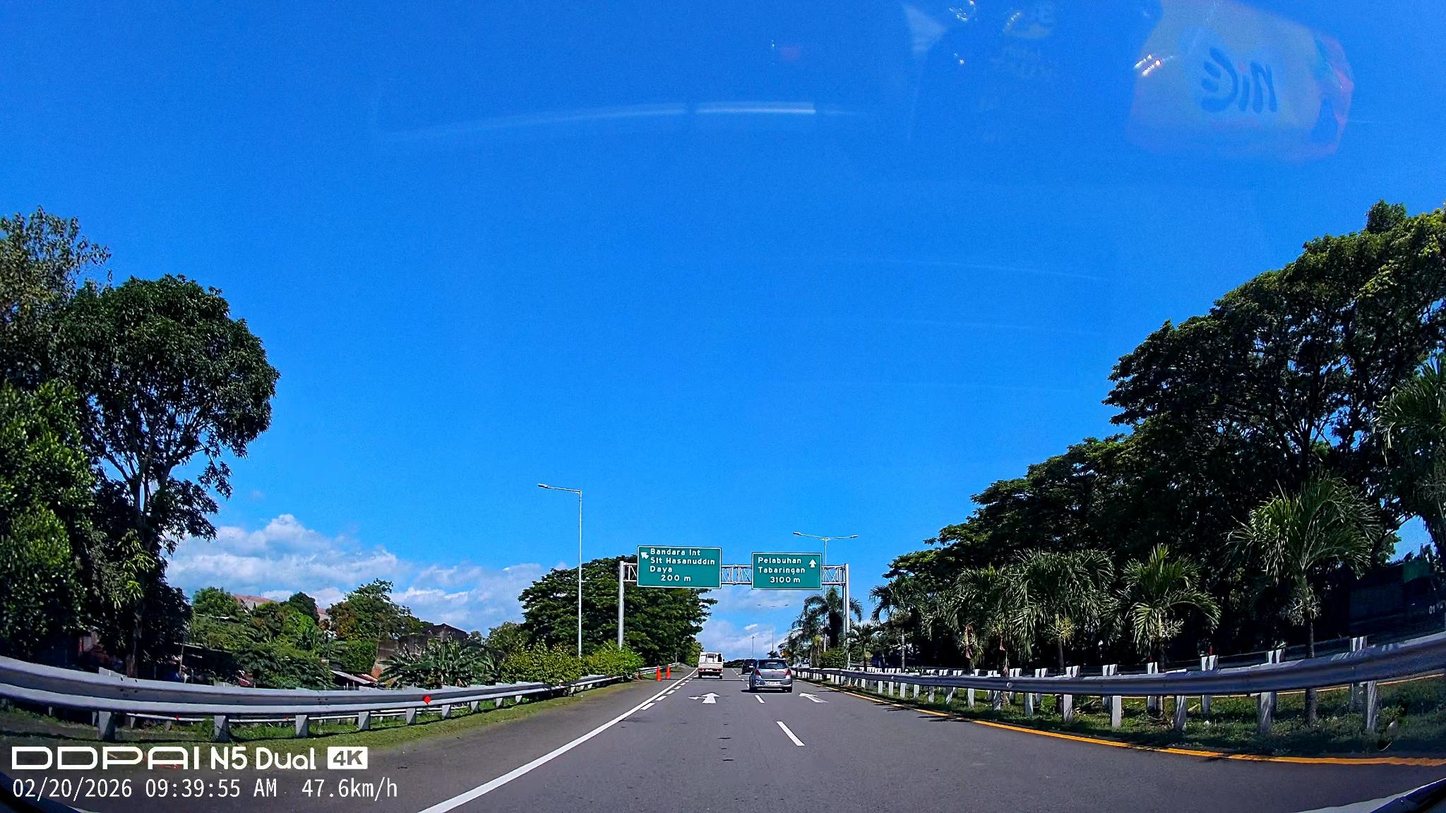rambu_teks: (636, 545, 722, 589), (751, 553, 823, 590)
